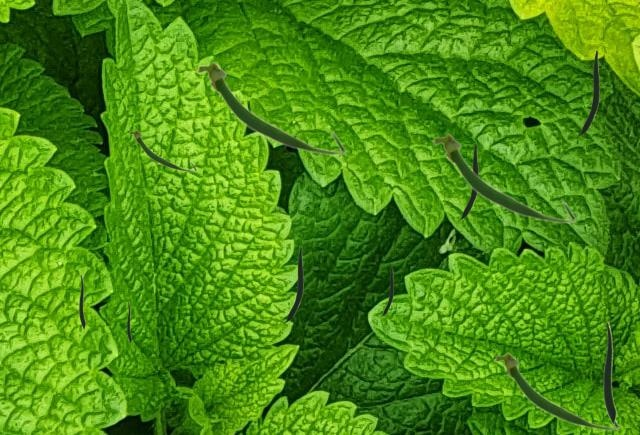french_bean: (195, 61, 346, 155), (431, 133, 576, 223), (493, 352, 619, 430), (128, 129, 196, 171), (577, 50, 598, 135), (283, 246, 302, 322), (458, 143, 477, 219), (603, 321, 615, 423), (381, 265, 392, 315), (79, 274, 84, 328), (127, 301, 130, 342)
